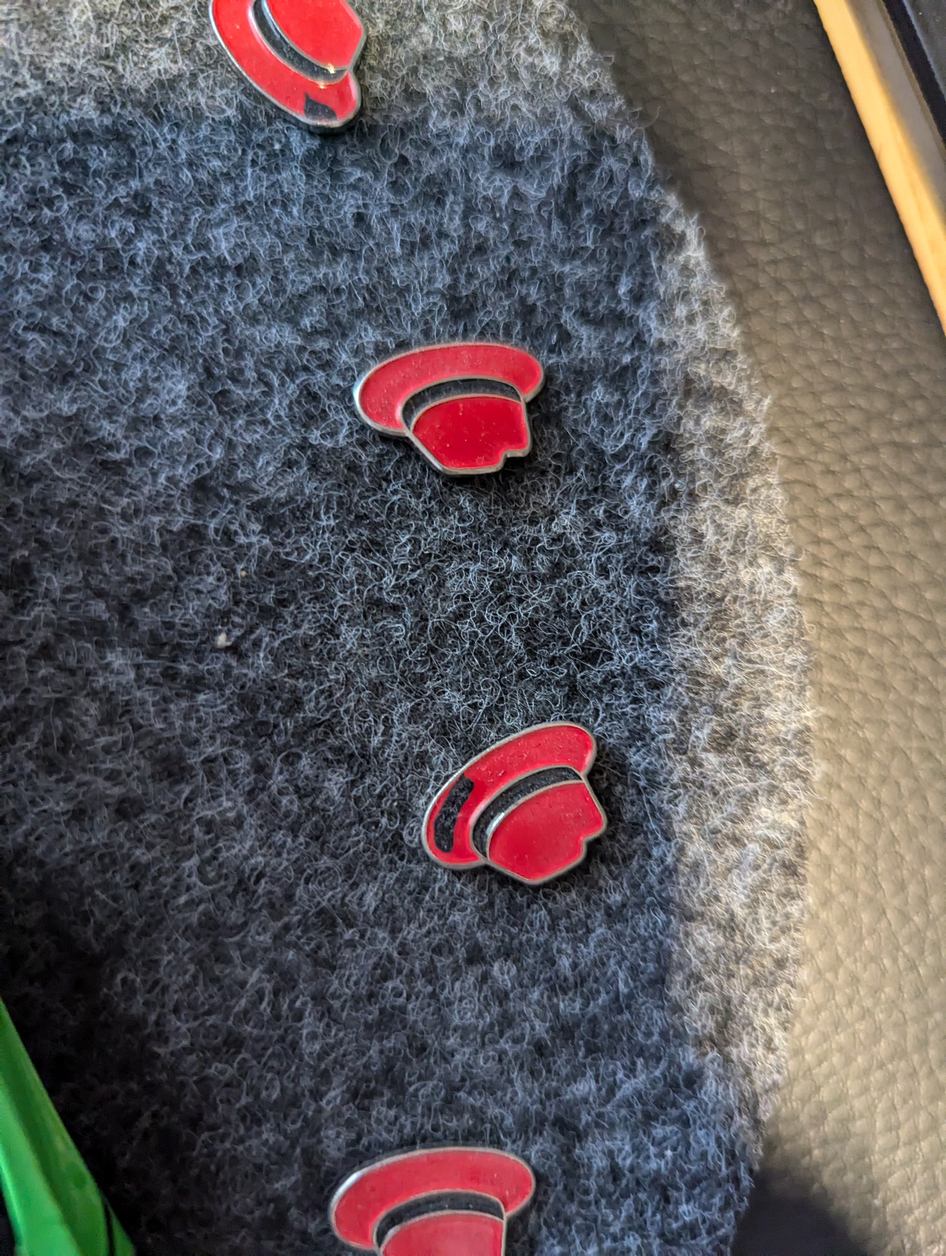Red-Hat: (386, 691, 627, 908), (327, 328, 565, 489), (292, 1121, 558, 1256), (187, 0, 384, 160)
Scratch: (421, 754, 480, 867), (283, 78, 341, 145)
